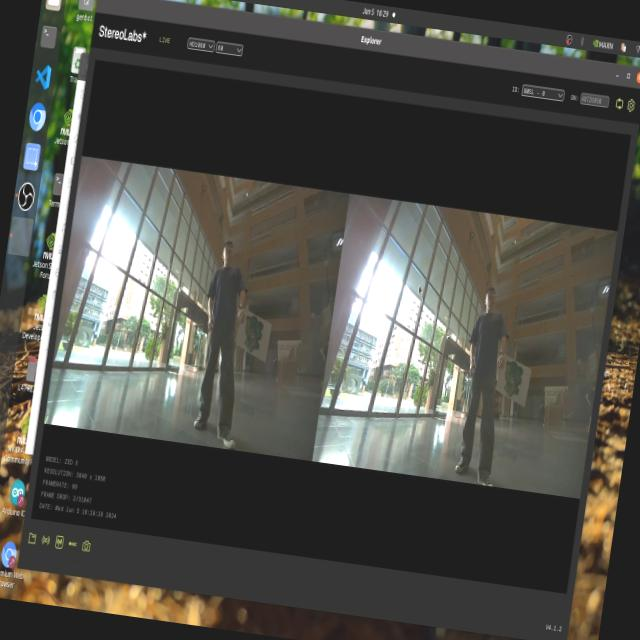green: (235, 311, 279, 363), (492, 354, 532, 406)
